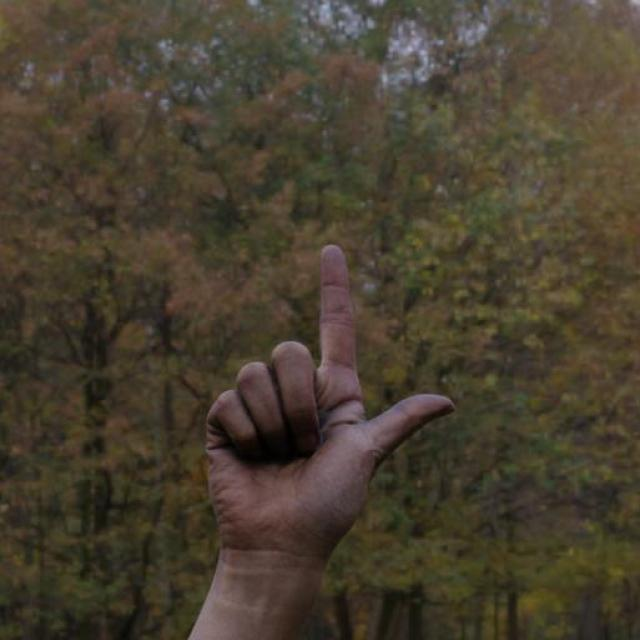L: (201, 243, 461, 565)
